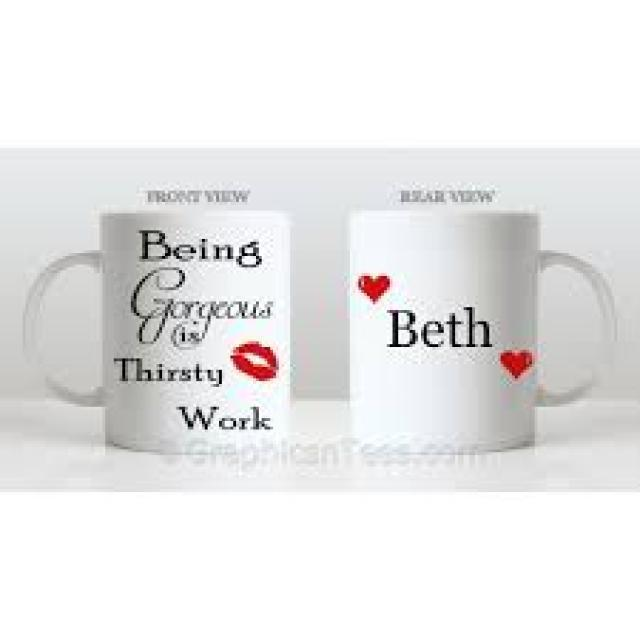taza: (13, 193, 306, 481), (334, 192, 620, 474)
